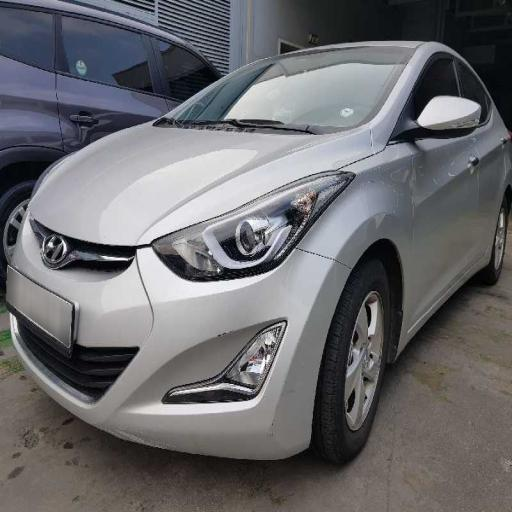dent: (248, 147, 438, 284)
